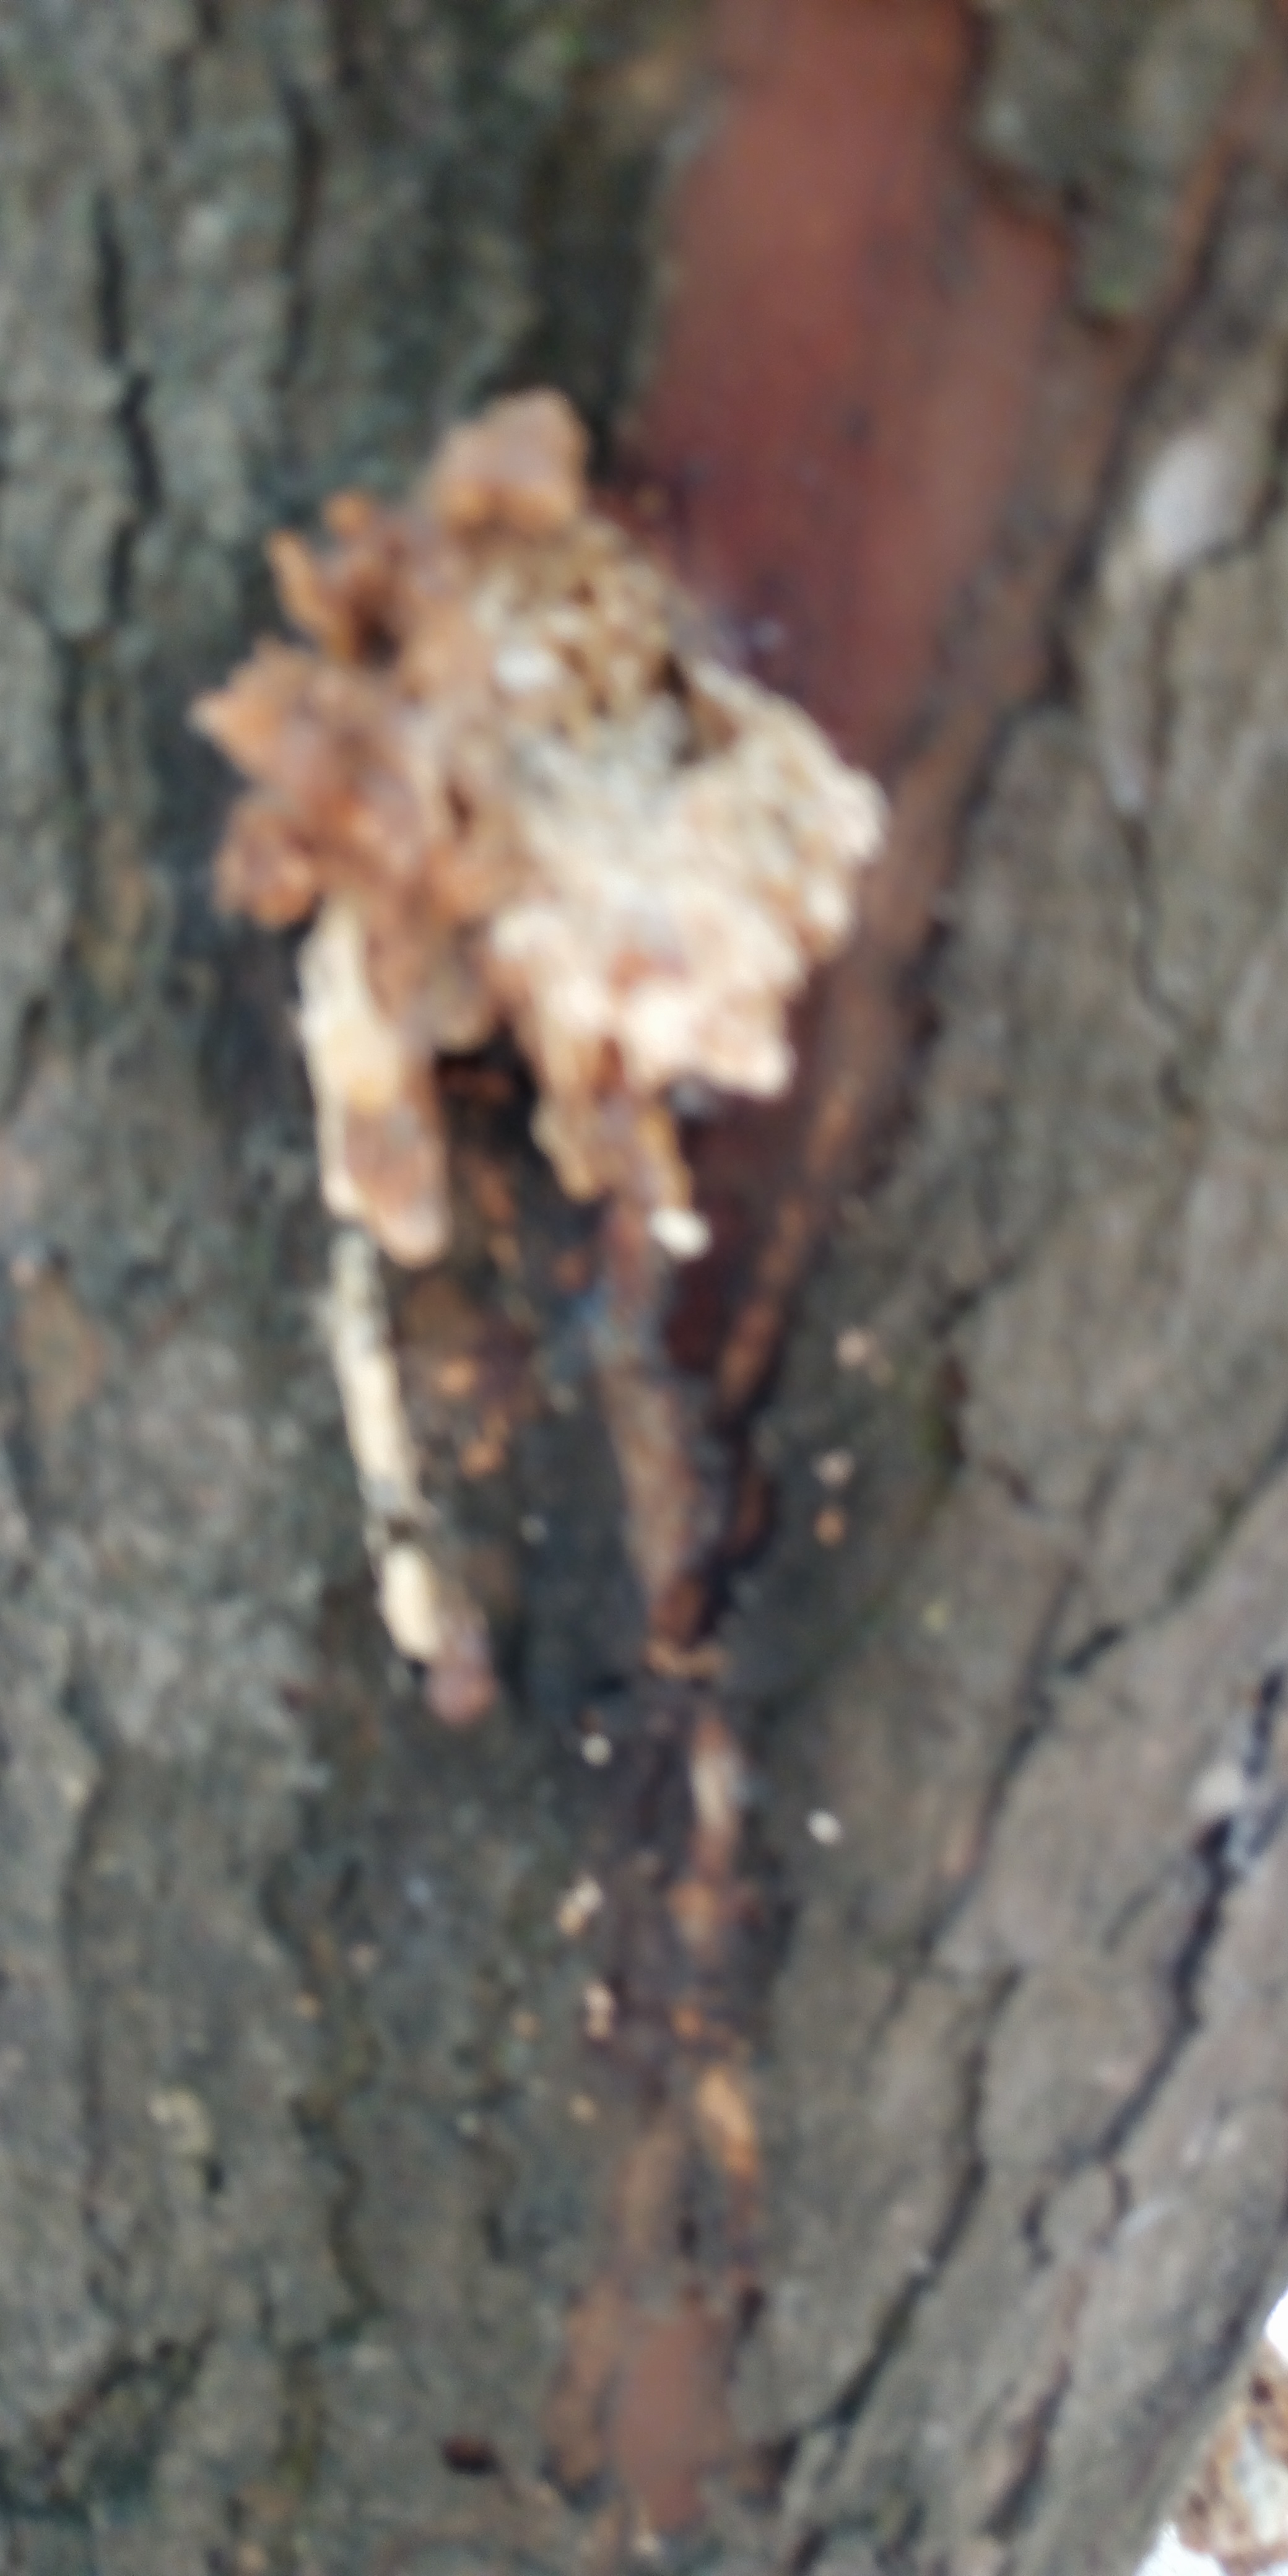Gommose: (227, 450, 808, 2126)
